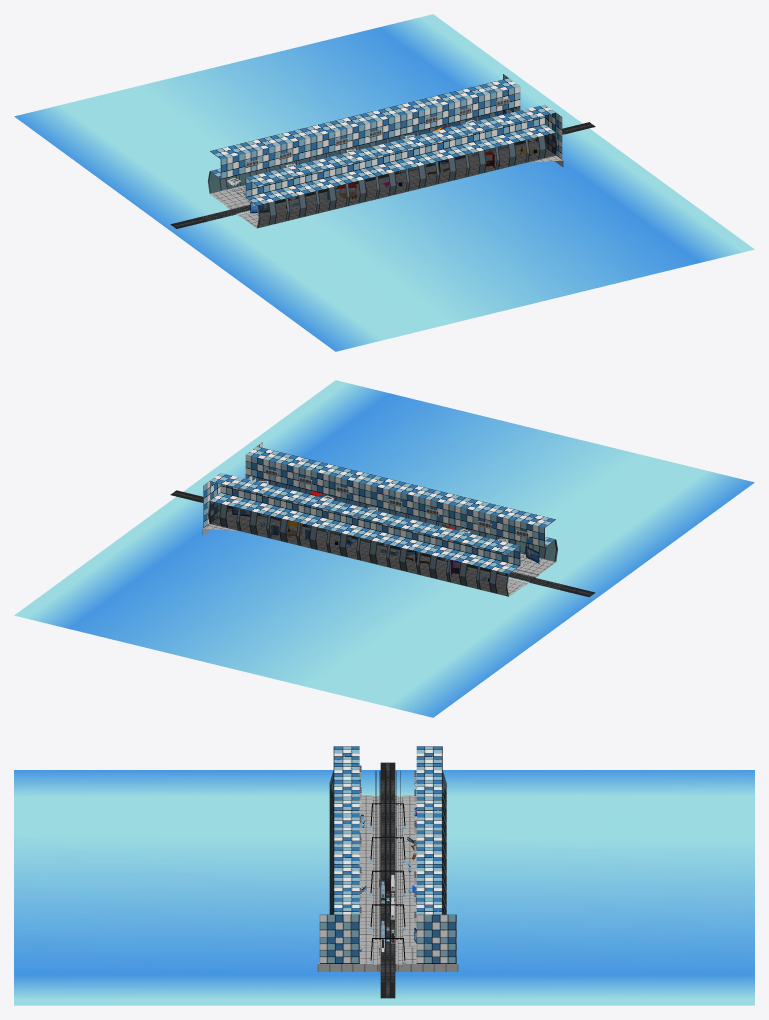
The model's file is subwaysurferstest66.glb.
3 renders of one model, top to bottom at view 1: azimuth 30°, elevation 25°; view 2: azimuth 150°, elevation 25°; view 3: azimuth 270°, elevation 25°, orthographic. The views are drawn at different scales.
Parts seen in each view (by area): view 1: Water, tiledwall.017, tiledwall.023, tiledwall.010, tiledwall.015, tiledwall.016, tiledwall.005, tiledwall.011, tiledwall.006, tiledwall.014, tiledwall, tiledwall.003 (+19 smaller); view 2: Water, tiledwall.023, tiledwall.020, tiledwall.007, tiledwall.012, tiledwall.009, tiledwall.019, tiledwall.013, tiledwall.018, tiledwall.021, tiledwall.022, tiledwall.017 (+19 smaller); view 3: Water, tiledwall.004, tiledwall.008, tiledwall.002, tiledwall.001, tile.015, tile.003, ElectricityPole.002, tiledwall, tiledwall.010, tiledwall.014, tiledwall.007 (+20 smaller).
Boxes of the visible parts, x1,y1,x2,y2 form: Water: [14, 14, 754, 351]; tiledwall.017: [245, 170, 286, 205]; tiledwall.023: [210, 144, 250, 179]; tiledwall.010: [395, 134, 435, 169]; tiledwall.015: [305, 155, 346, 190]; tiledwall.016: [275, 163, 316, 198]; tiledwall.005: [455, 119, 495, 154]; tiledwall.011: [365, 141, 405, 176]; tiledwall.006: [425, 126, 465, 161]; tiledwall.014: [335, 148, 375, 183]; tiledwall: [515, 104, 555, 139]; tiledwall.003: [485, 112, 525, 147]; Water: [14, 380, 754, 717]; tiledwall.023: [479, 538, 520, 573]; tiledwall.020: [389, 516, 430, 551]; tiledwall.007: [210, 473, 250, 508]; tiledwall.012: [270, 487, 310, 522]; tiledwall.009: [240, 480, 280, 515]; tiledwall.019: [359, 509, 400, 544]; tiledwall.013: [300, 495, 340, 530]; tiledwall.018: [330, 502, 370, 537]; tiledwall.021: [419, 524, 460, 559]; tiledwall.022: [449, 531, 490, 566]; tiledwall.017: [515, 512, 555, 547]; Water: [14, 770, 754, 1005]; tiledwall.004: [319, 937, 359, 963]; tiledwall.008: [416, 937, 456, 963]; tiledwall.002: [416, 914, 456, 937]; tiledwall.001: [319, 914, 359, 937]; tile.015: [403, 947, 458, 971]; tile.003: [317, 947, 372, 971]; ElectricityPole.002: [369, 838, 406, 896]; tiledwall: [333, 897, 359, 914]; tiledwall.010: [333, 830, 359, 847]; tiledwall.014: [333, 796, 359, 813]; tiledwall.007: [416, 897, 442, 914].
Bounding box in the file's own units: 562 × 67.5 × 744.
8 materials, 8 textured.
